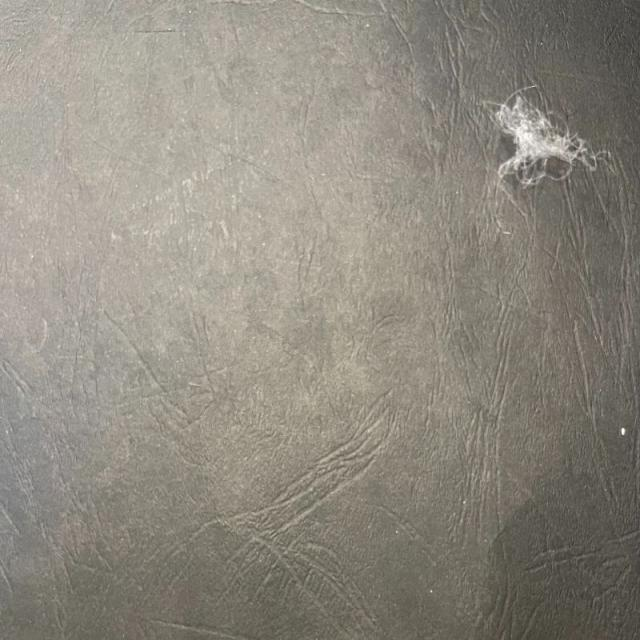feather: (482, 82, 604, 180)
